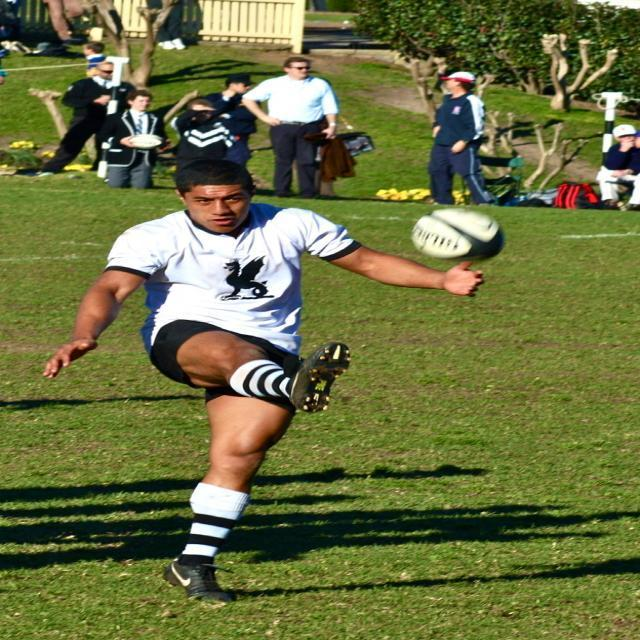football: (401, 199, 517, 277)
